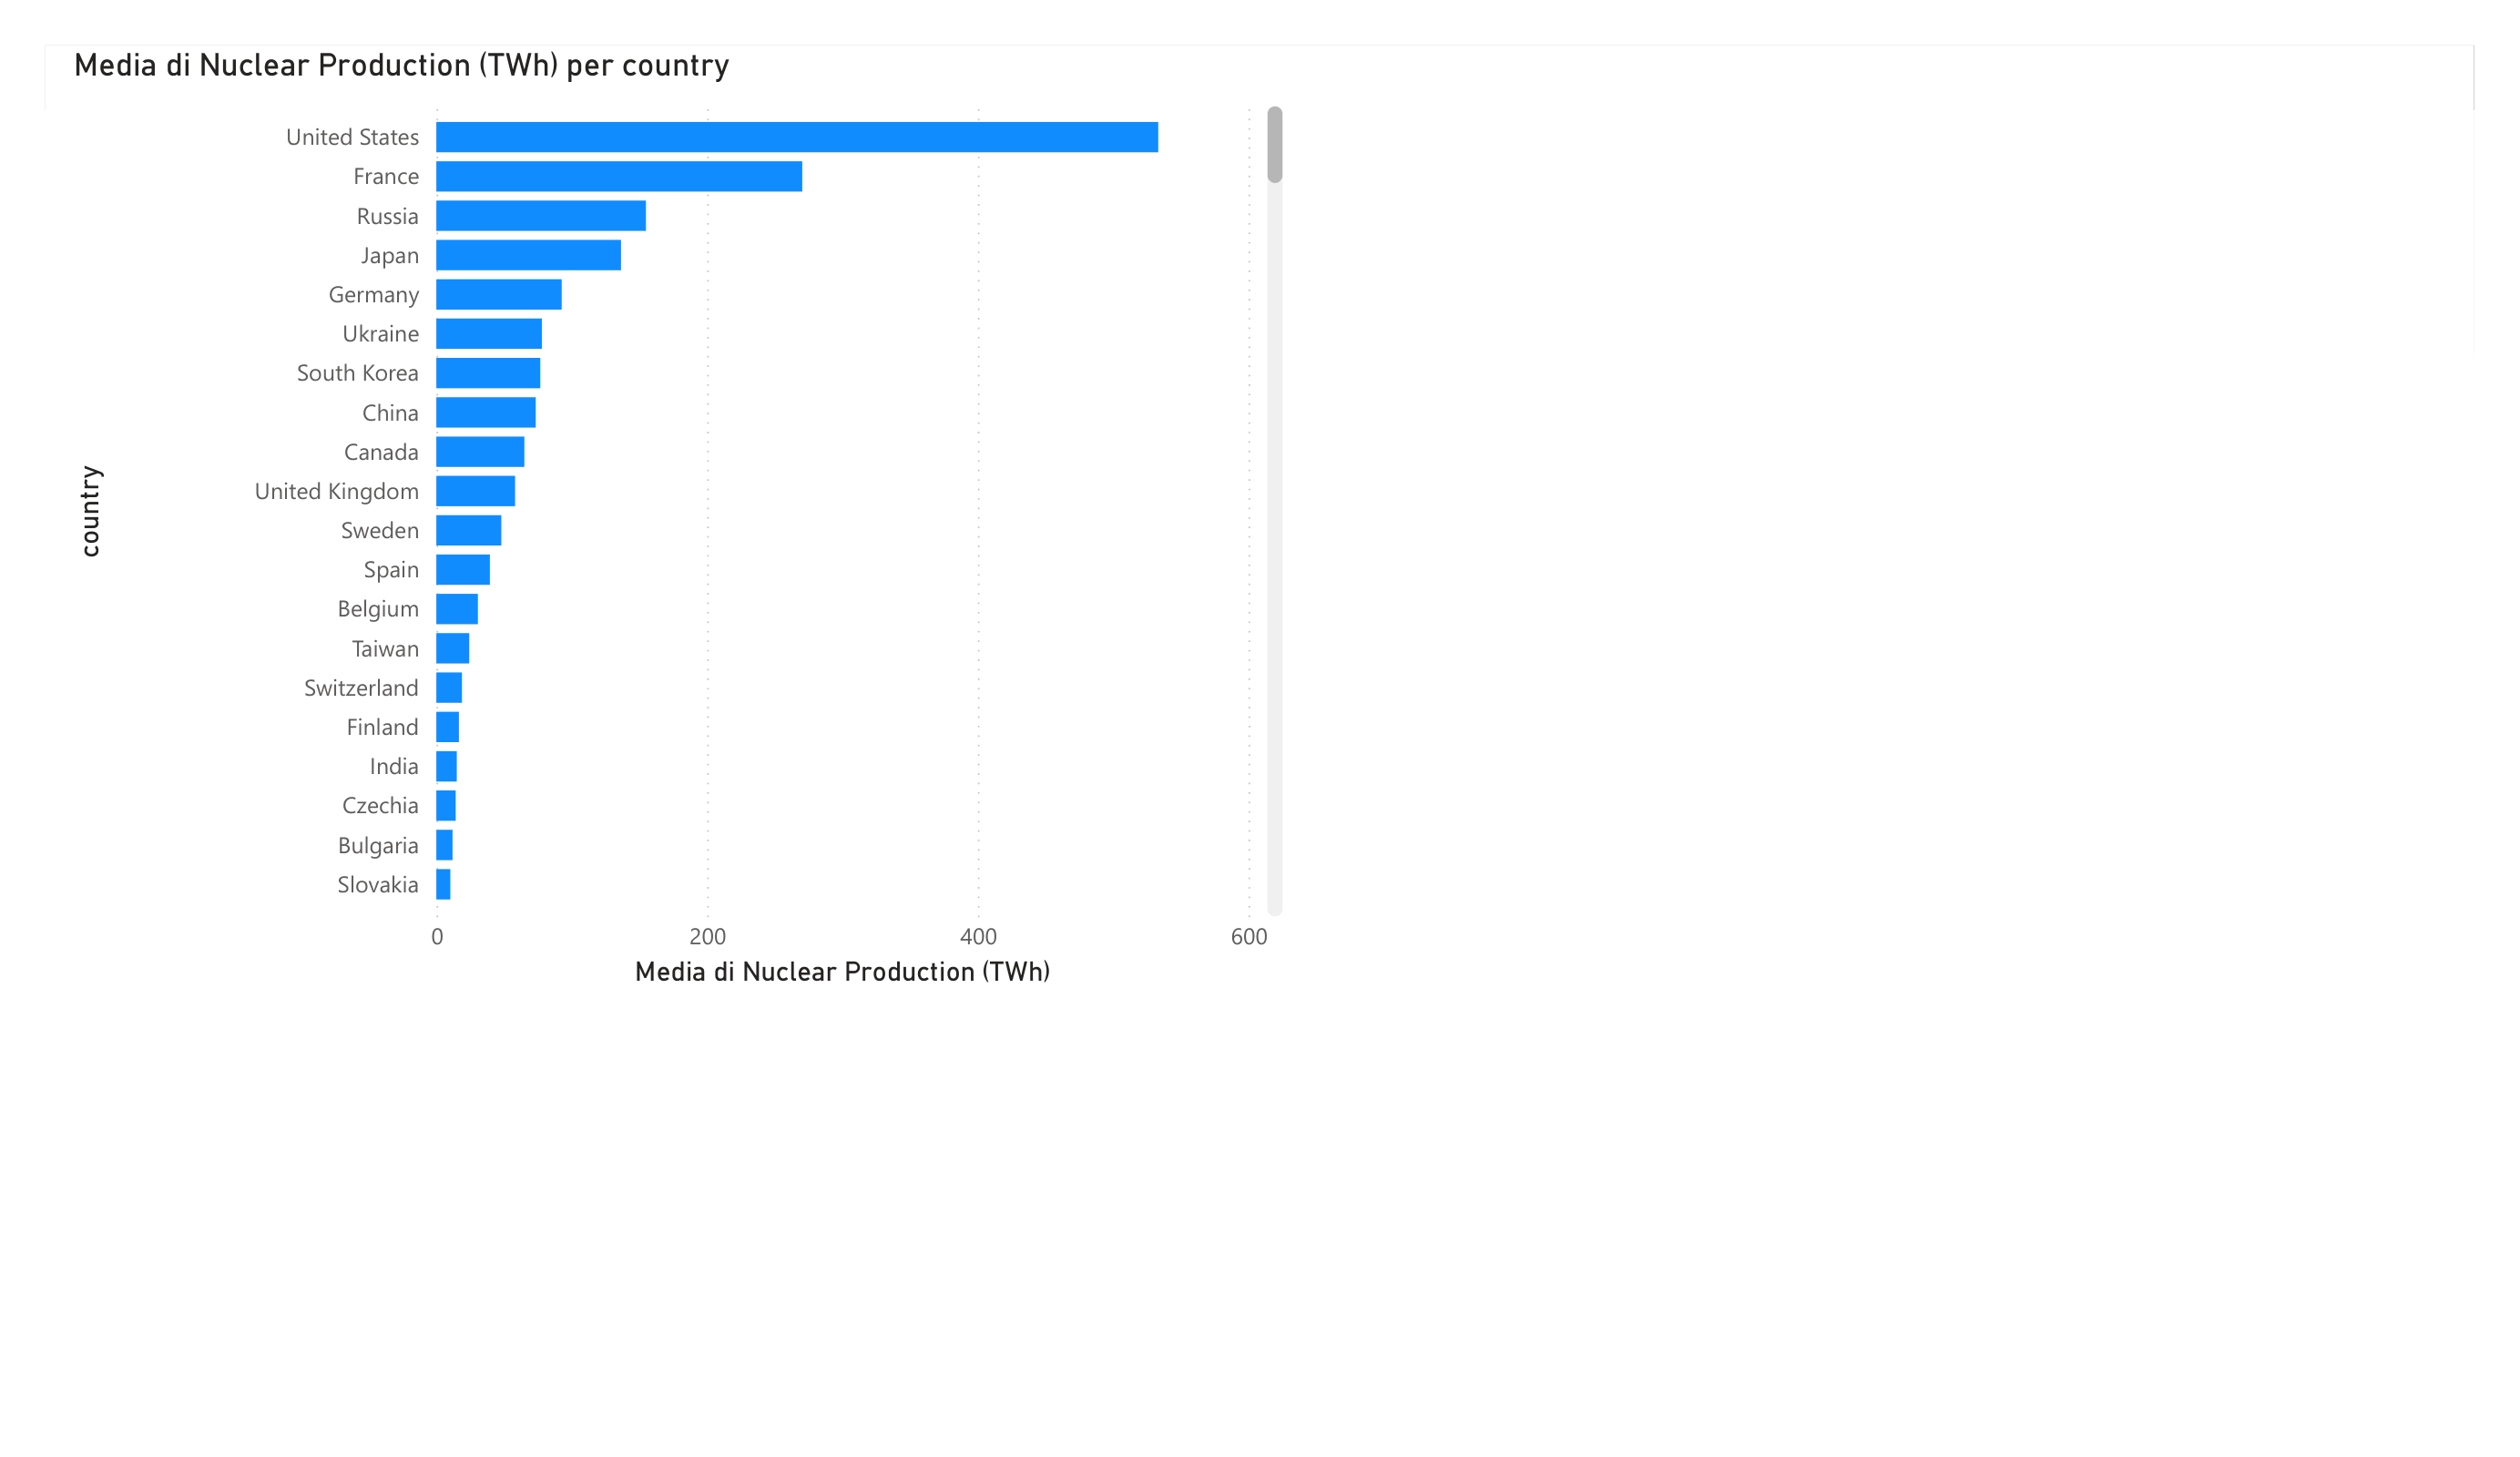

The dashboard page shown, as its layout file describes it:
{"tool":"powerbi","page":{"name":"Pagina 1","canvas":[1280,720],"ordinal":0},"visuals":[{"type":"barChart","fields":{"Category":["nuclear_generation.country"],"Y":["Avg(nuclear_generation.nuclear_twh)"]},"box":[9.7,0,646.8,500.9],"z":0}]}

Visuals, with their boxes on the page's 1280x720 design canvas (x1, y1, x2, y2). These are canvas units, not pixel positions in the 2520x1457 screenshot, which may show the page scaled, cropped or inside an application window:
barChart - nuclear_generation.country x Avg(nuclear_generation.nuclear_twh): bbox=[10, 0, 656, 501]
